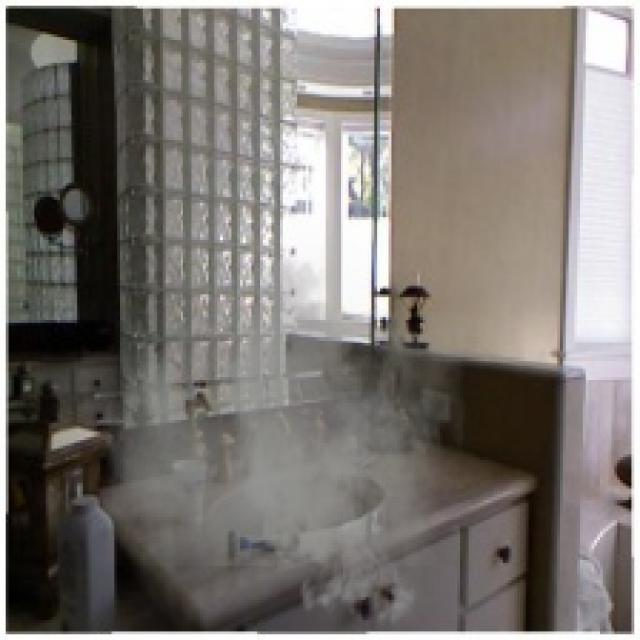Smoke: (100, 240, 466, 637)
